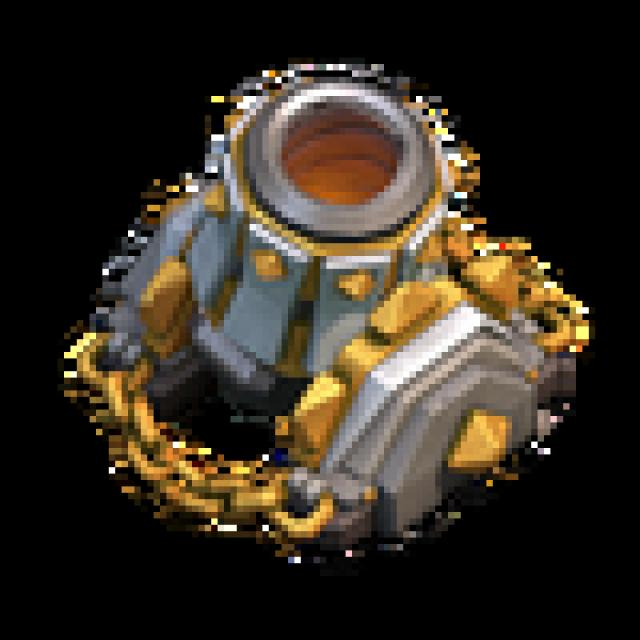mortar: (26, 27, 613, 573)
